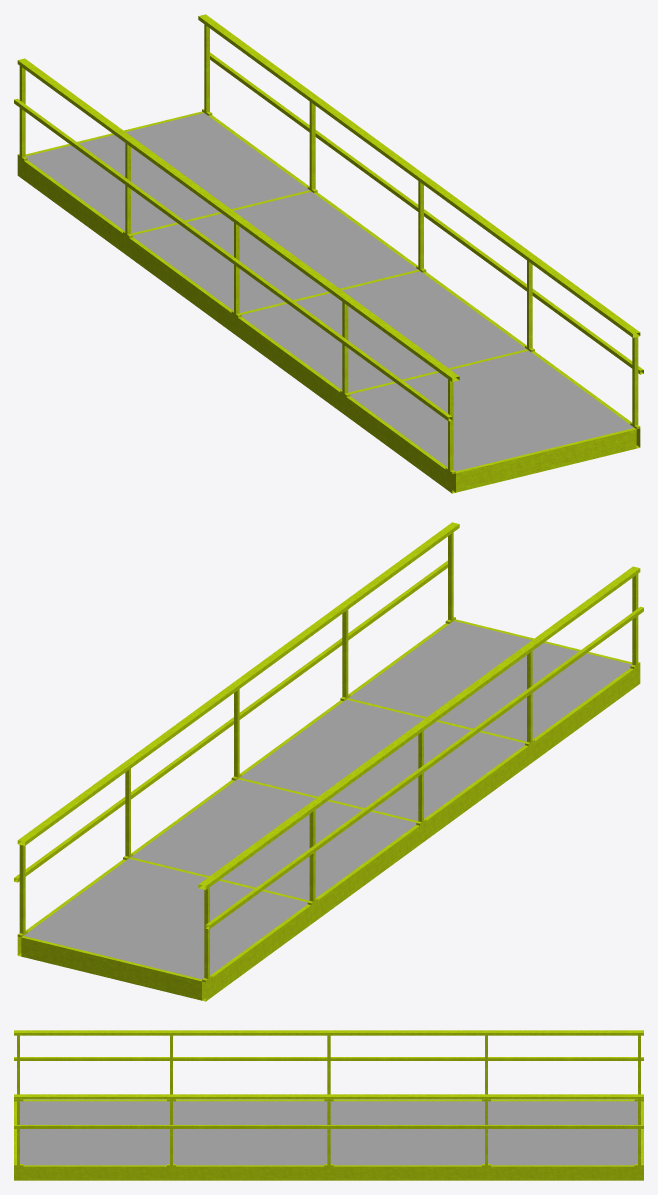
Rendered from BridgeMiddle_1024.fbx.
3 renders of one model, top to bottom at view 1: azimuth 30°, elevation 25°; view 2: azimuth 150°, elevation 25°; view 3: azimuth 270°, elevation 25°, orthographic. The views are drawn at different scales.
Visible parts, largest first — view 1: BridgeMiddle_1024; view 2: BridgeMiddle_1024; view 3: BridgeMiddle_1024.
Part boxes in pixels (x1,y1,x2,y2): BridgeMiddle_1024: (14,14,643,493); BridgeMiddle_1024: (14,522,643,1001); BridgeMiddle_1024: (14,1030,643,1180).
Bounding box in the file's own units: 2.66 × 1.5 × 10.24.
